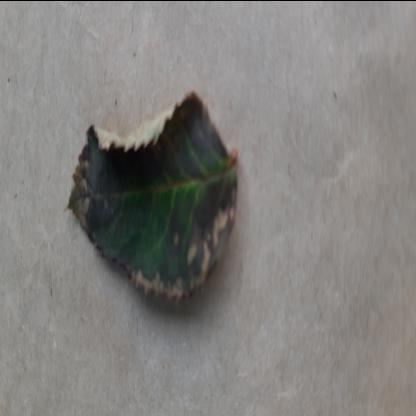powdery-mildew: (66, 72, 238, 304)
